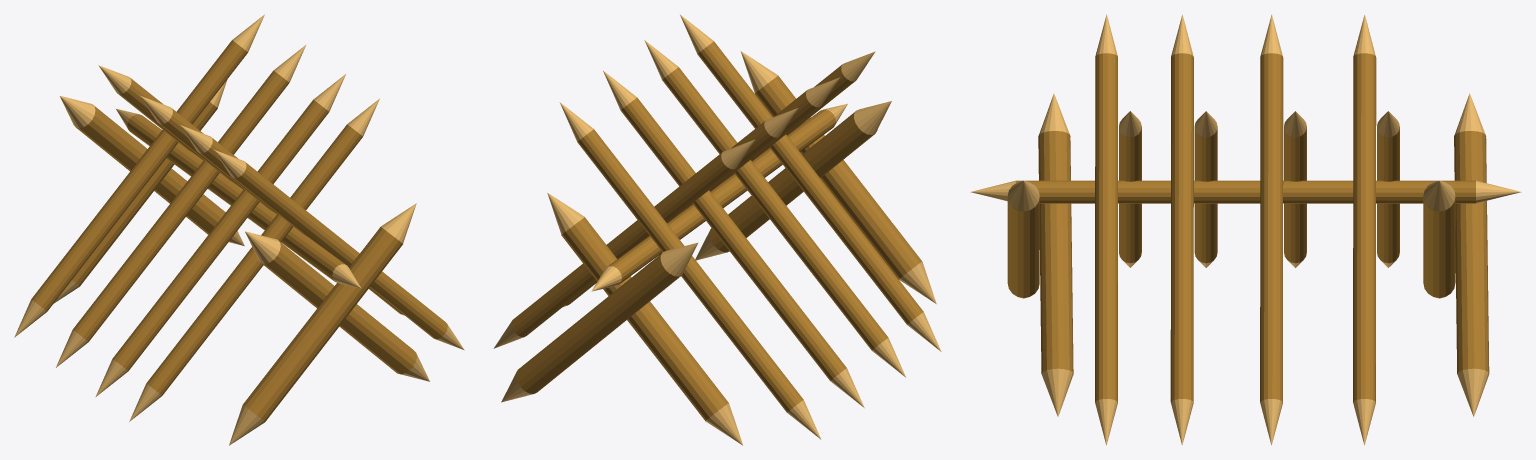
File: Barricade.fbx
3 views of the same model, side by side, from view 1: azimuth 30°, elevation 25°; view 2: azimuth 150°, elevation 25°; view 3: azimuth 270°, elevation 25° (orthographic). The views are drawn at different scales.
Parts seen in each view (by area): view 1: Barricade; view 2: Barricade; view 3: Barricade.
Part boxes in pixels (x1,y1,x2,y2): Barricade: [14, 14, 464, 445]; Barricade: [493, 14, 941, 445]; Barricade: [970, 14, 1521, 445].
Bounding box in the file's own units: 1831 × 1424 × 2400.
